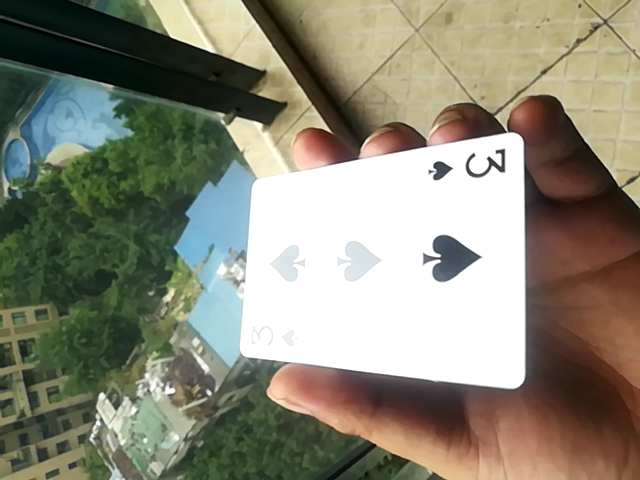ht 3: (240, 128, 536, 404)
